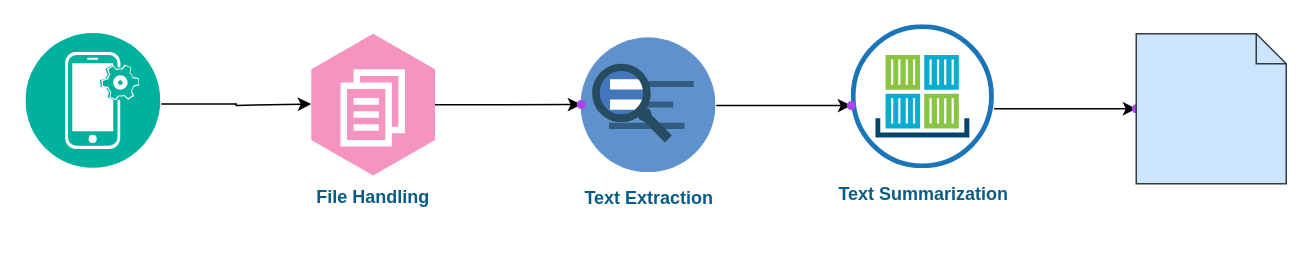
This 1313x258 diagram has some shape labels left out. Here are the shapes that lost their labels. From the top down, the centre of each, then its label:
point (93, 100): User Interface
point (1210, 108): Display Result
